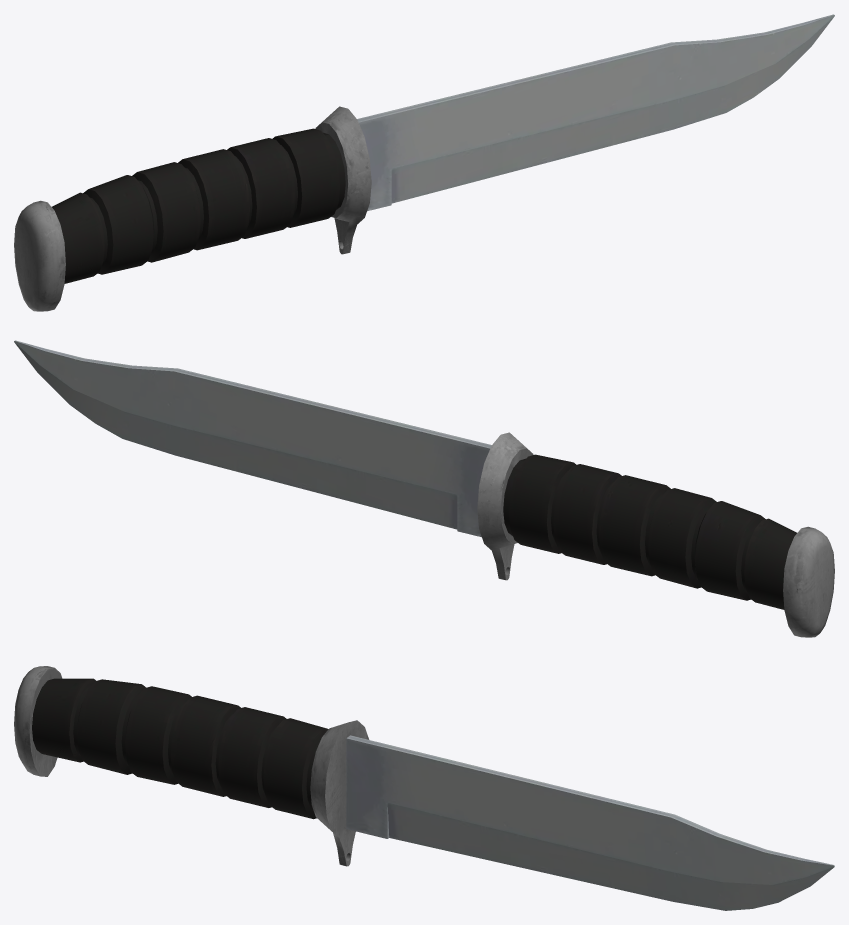
Rendered from mes.glb.
3 views of the same model, one above another, from view 1: azimuth 30°, elevation 25°; view 2: azimuth 150°, elevation 25°; view 3: azimuth 330°, elevation 25° (orthographic).
Visible parts, largest first — view 1: Cylinder; view 2: Cylinder; view 3: Cylinder.
Boxes of the visible parts, x1,y1,x2,y2 form: Cylinder: [14, 14, 834, 311]; Cylinder: [14, 340, 834, 637]; Cylinder: [14, 666, 834, 910].
Bounding box in the file's own units: 1198 × 204 × 120.
3 materials, 3 textured.
